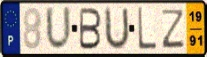8: (22, 6, 43, 52)
B: (78, 7, 102, 51)
L: (136, 6, 158, 52)
U: (44, 5, 73, 53), (103, 6, 131, 52)
Z: (161, 8, 186, 49)
